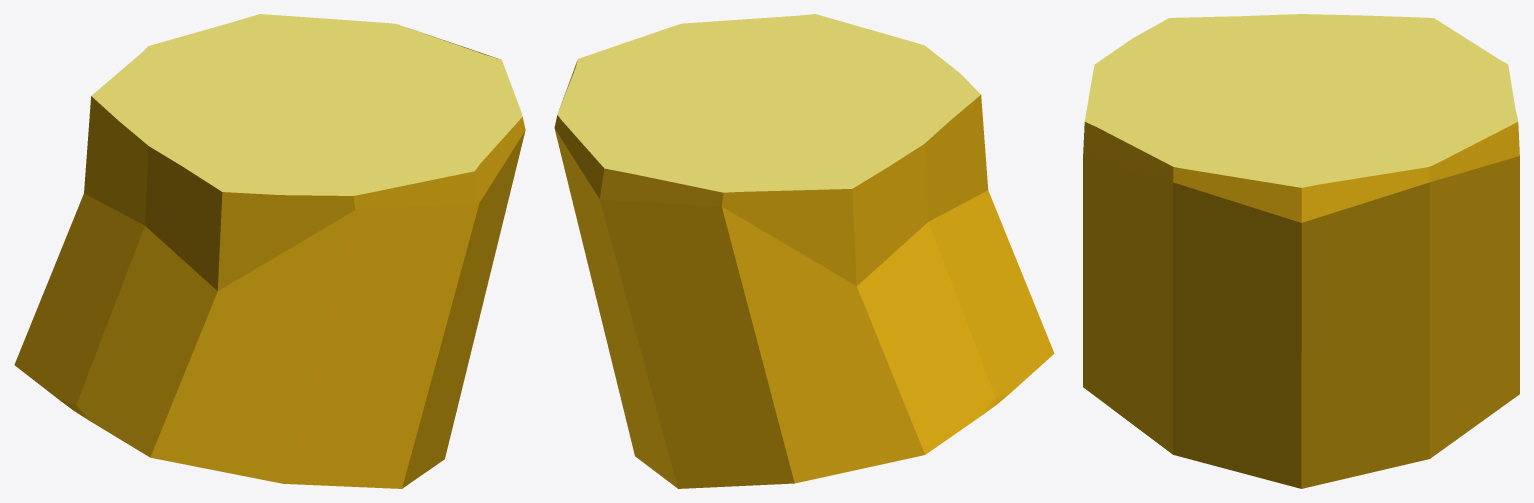
File: BananaQu3.fbx
3 renders of one model, left to right at view 1: azimuth 30°, elevation 25°; view 2: azimuth 150°, elevation 25°; view 3: azimuth 270°, elevation 25°, orthographic. The views are drawn at different scales.
Visible parts, largest first — view 1: BananaQu3; view 2: BananaQu3; view 3: BananaQu3.
Part boxes in pixels (<box>): BananaQu3: <box>14,14,525,488</box>; BananaQu3: <box>554,14,1054,488</box>; BananaQu3: <box>1083,14,1519,488</box>.
Size of the model in its own units: 196 by 146 by 170.
